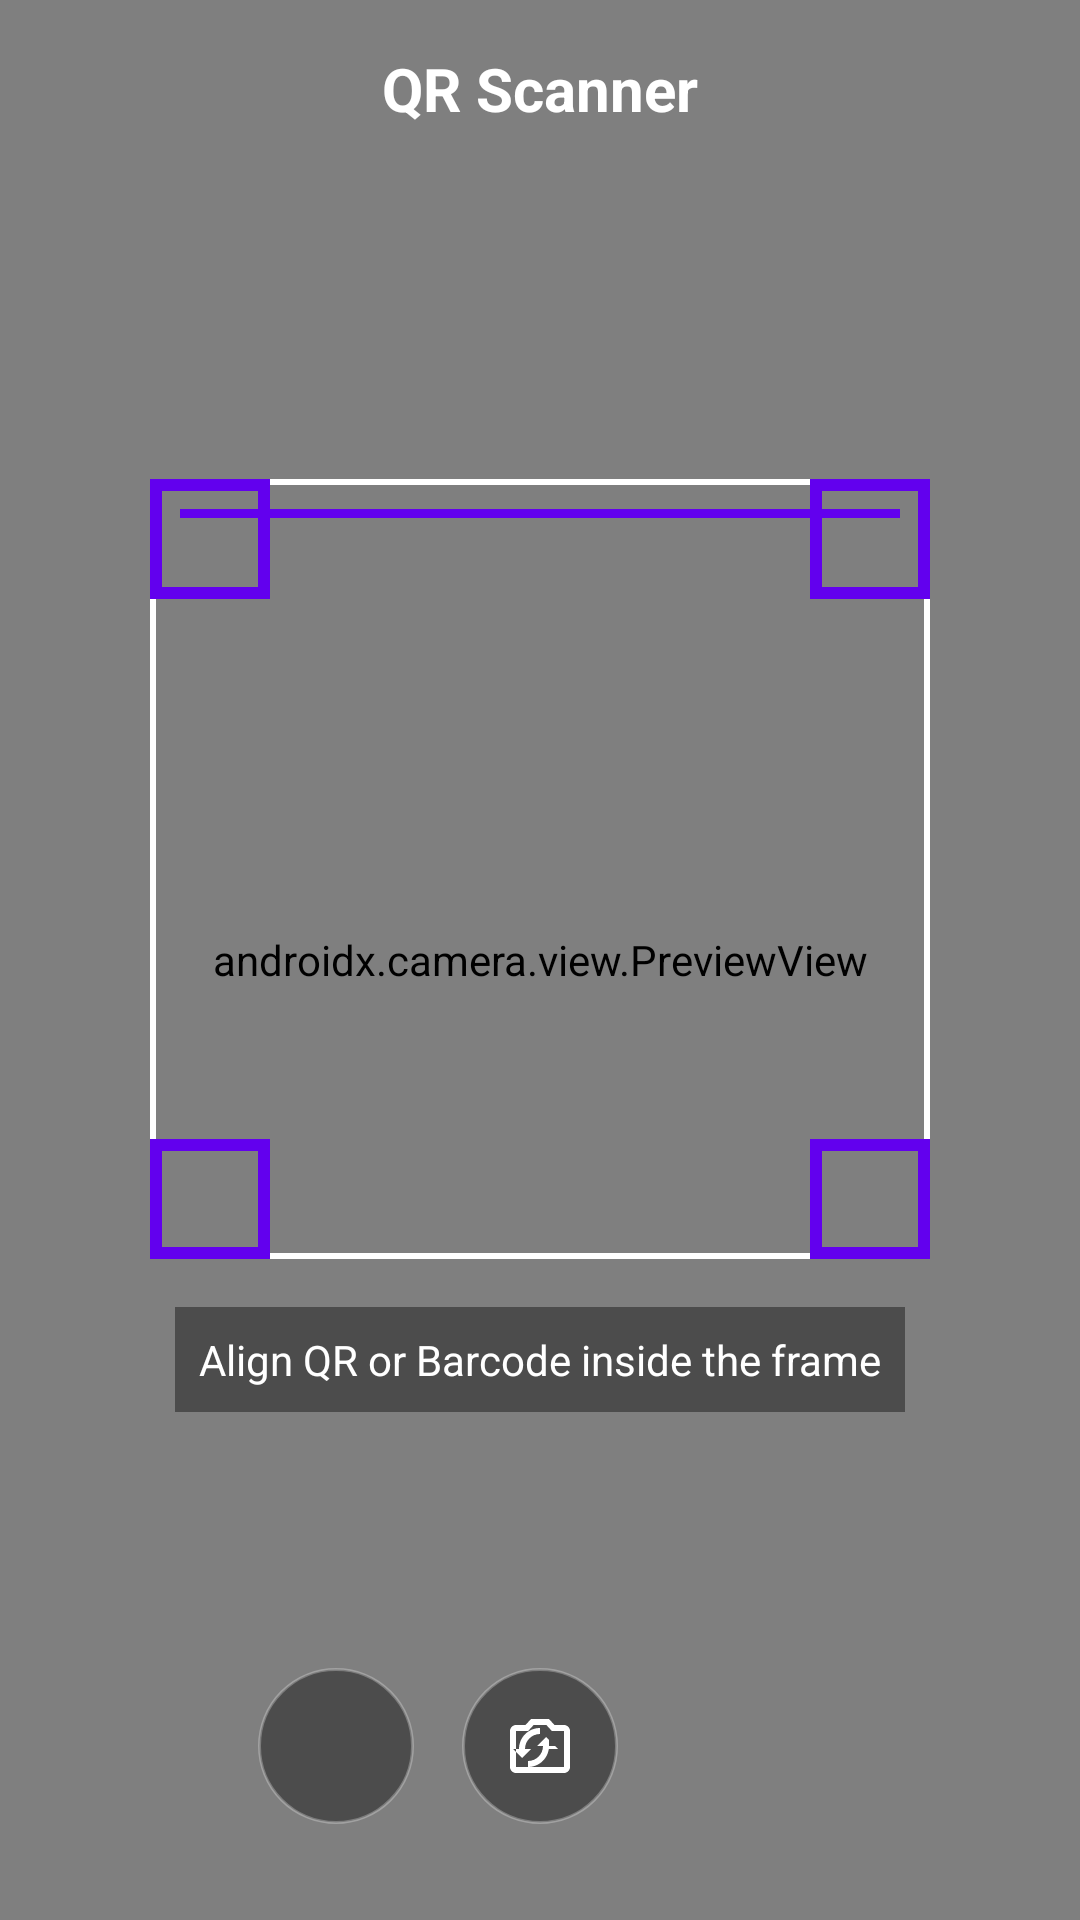

Locate icon controls on the screen. Image size 1080px×1920px, boxes as bbox=[x1, y1, x2, y2].
Flip Camera: bbox=[462, 1668, 618, 1824]
